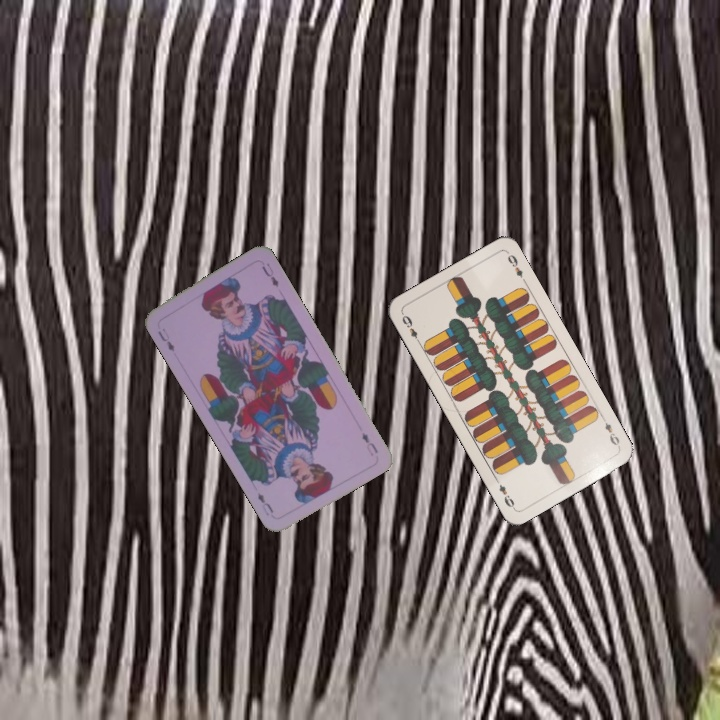E9: (398, 310, 423, 347), (598, 413, 623, 450)
EU: (154, 324, 177, 354), (358, 428, 380, 459)
